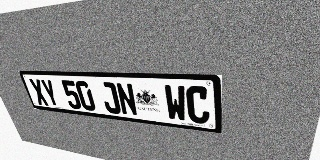0: (74, 81, 96, 111)
5: (61, 80, 83, 110)
C: (185, 86, 210, 125)
J: (99, 82, 122, 114)
N: (115, 82, 138, 116)
W: (163, 85, 187, 122)
X: (28, 79, 49, 106)
Y: (39, 79, 61, 107)
